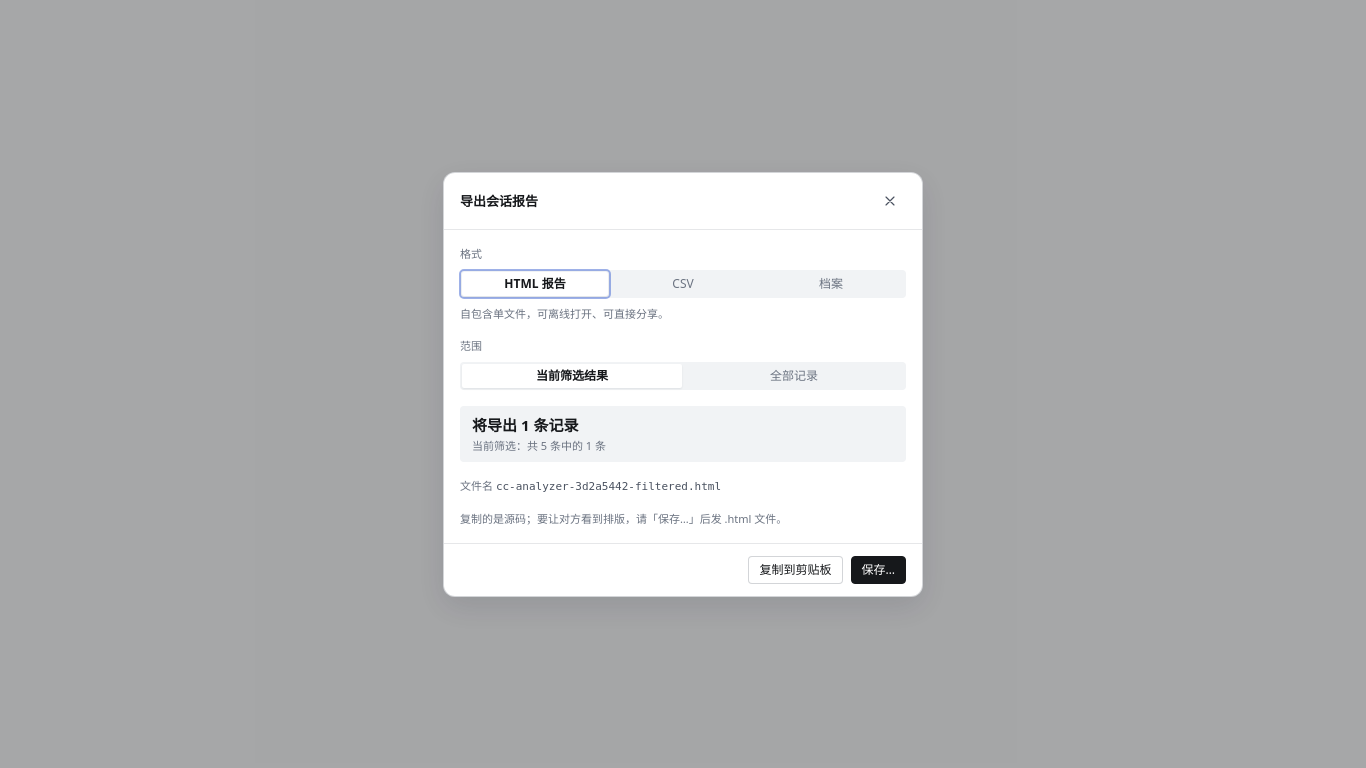
Test: keeps the chosen scope while the format changes
The image size is (1366, 768).
Click the tab "全部记录".
click(794, 376)  # box [684,364,904,388]
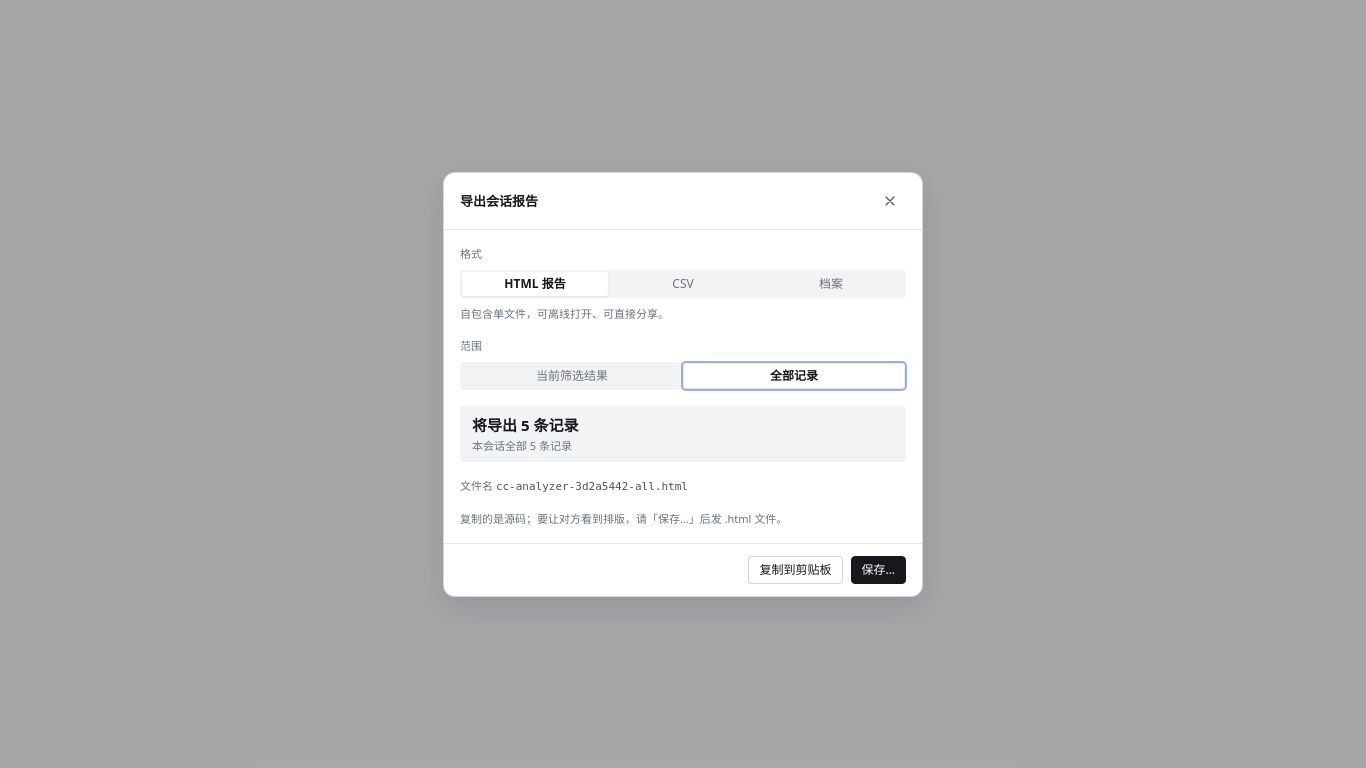
Click the tab "CSV".
click(683, 284)  # box [610,272,756,296]
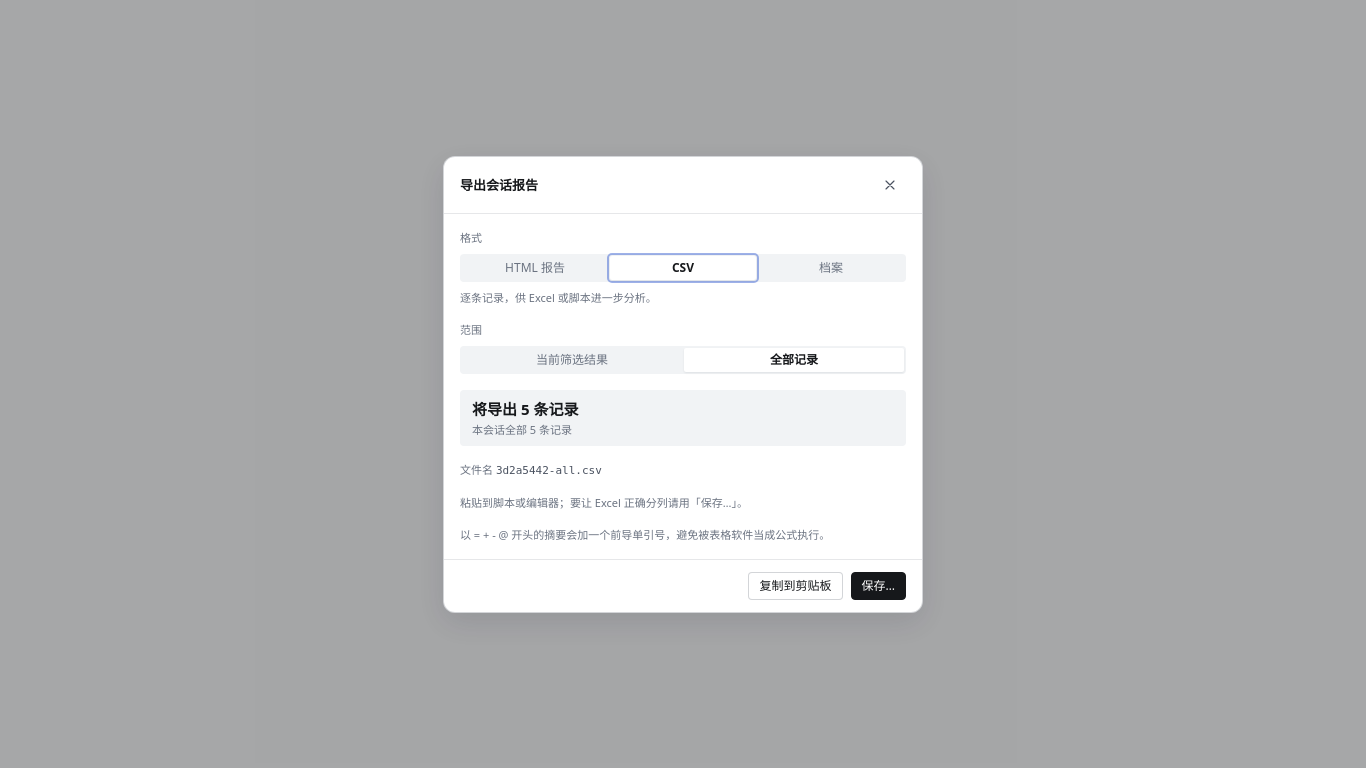
Expected: the text "逐条记录，供 Excel 或脚本进一步分析。" is shown, [460,290,657,304]
